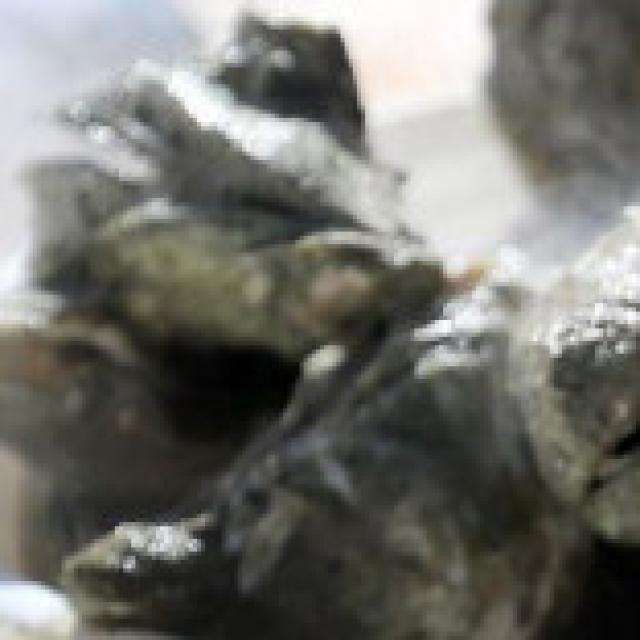Oyster-Closed: (525, 206, 640, 544)
Oyster-Indeterminate: (223, 320, 596, 640), (0, 305, 263, 505), (93, 215, 449, 348), (486, 0, 640, 239), (212, 14, 364, 139), (67, 518, 229, 633)
Oyster-Open: (35, 70, 426, 267)
